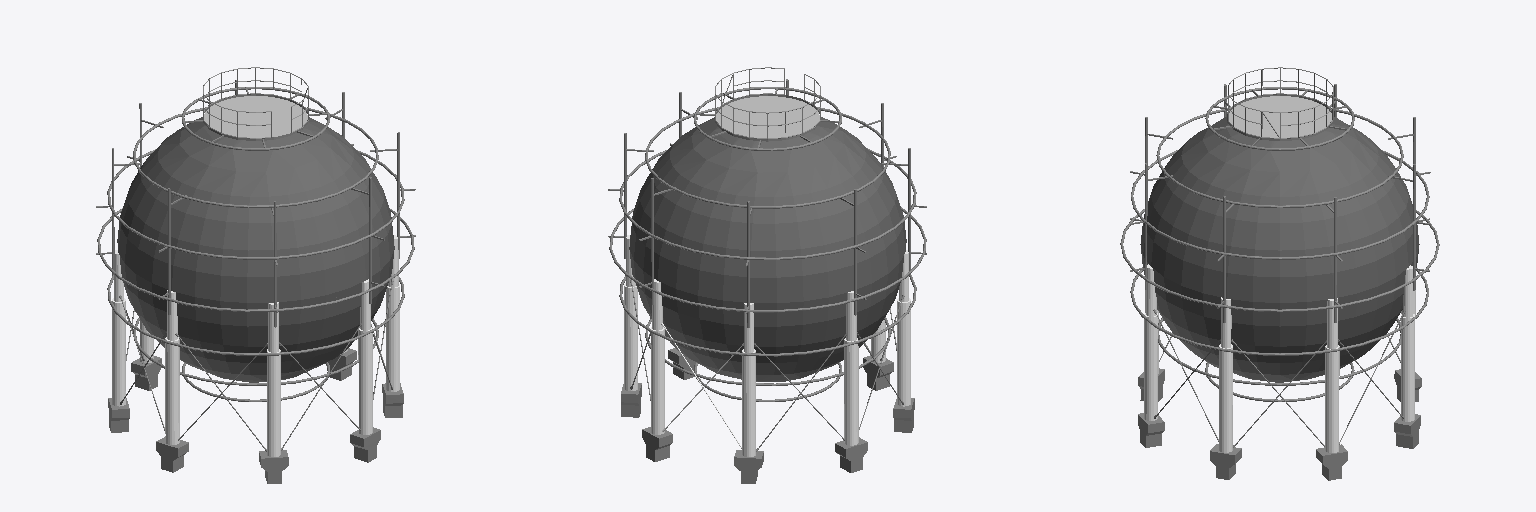
File: 0403qiuguan.obj
3 views of the same model, side by side, from view 1: azimuth 30°, elevation 25°; view 2: azimuth 150°, elevation 25°; view 3: azimuth 270°, elevation 25° (orthographic).
Parts seen in each view (by area): view 1: EQUIP_Q_18, Object001; view 2: EQUIP_Q_18, Object001; view 3: EQUIP_Q_18, Object001.
Part boxes in pixels (left/top/right/bottom): EQUIP_Q_18: left=96, top=80, right=415, bottom=483; Object001: left=203, top=67, right=308, bottom=138; EQUIP_Q_18: left=608, top=79, right=926, bottom=483; Object001: left=715, top=67, right=820, bottom=139; EQUIP_Q_18: left=1120, top=84, right=1439, bottom=480; Object001: left=1227, top=67, right=1333, bottom=138.
Bounding box in the file's own units: 11.38 × 13.15 × 11.45.